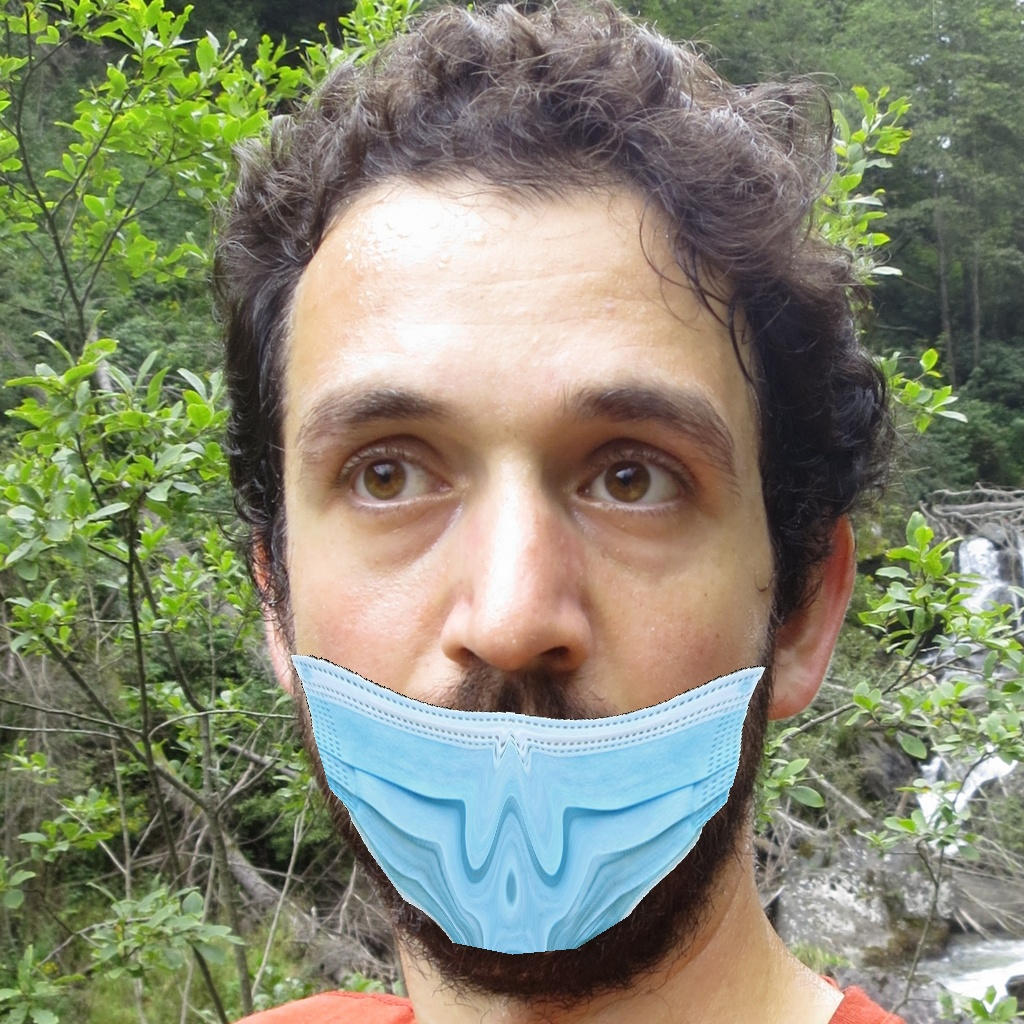mascarilla_mal_puesta: (259, 375, 832, 968)
